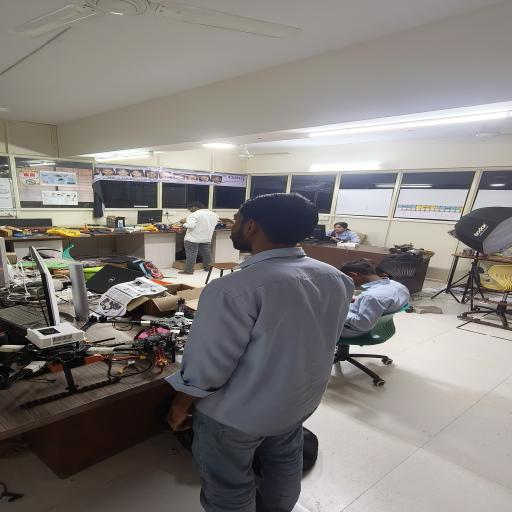survivor: (164, 192, 356, 512), (339, 260, 410, 340), (178, 201, 218, 275), (325, 222, 361, 244)
